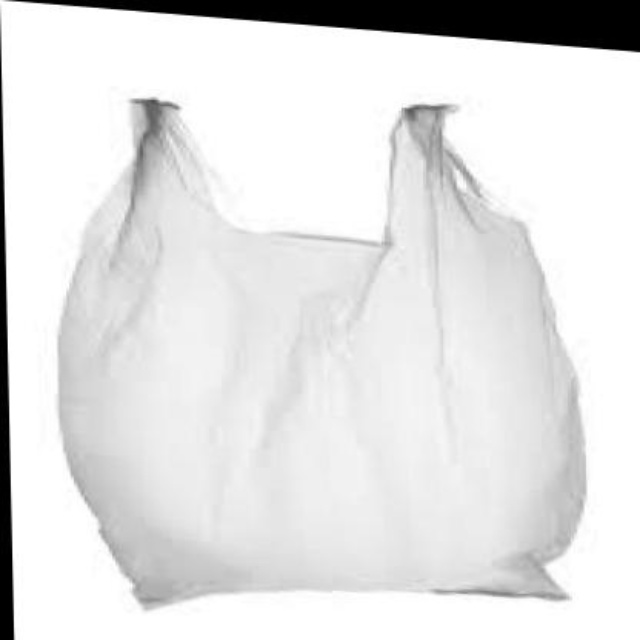trash: (58, 100, 583, 602)
